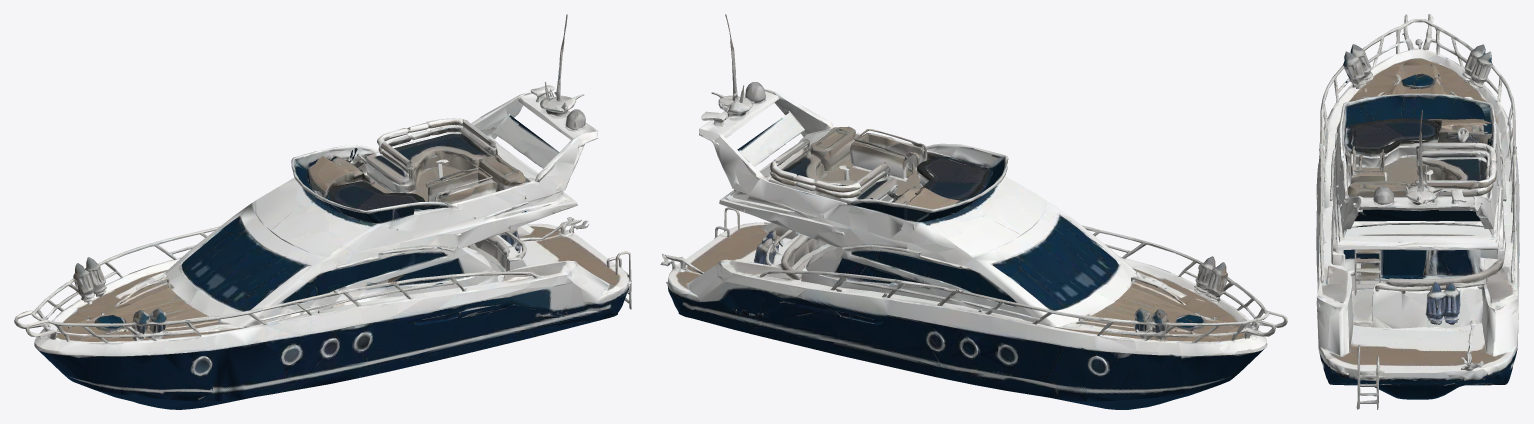
File: upm_mu5vzpv53ok.glb
3 renders of one model, left to right at view 1: azimuth 30°, elevation 25°; view 2: azimuth 150°, elevation 25°; view 3: azimuth 270°, elevation 25°, orthographic.
Size of the model in its own units: 1.89 by 0.9234 by 0.5567.
Materials: 1 (1 with a texture image).
